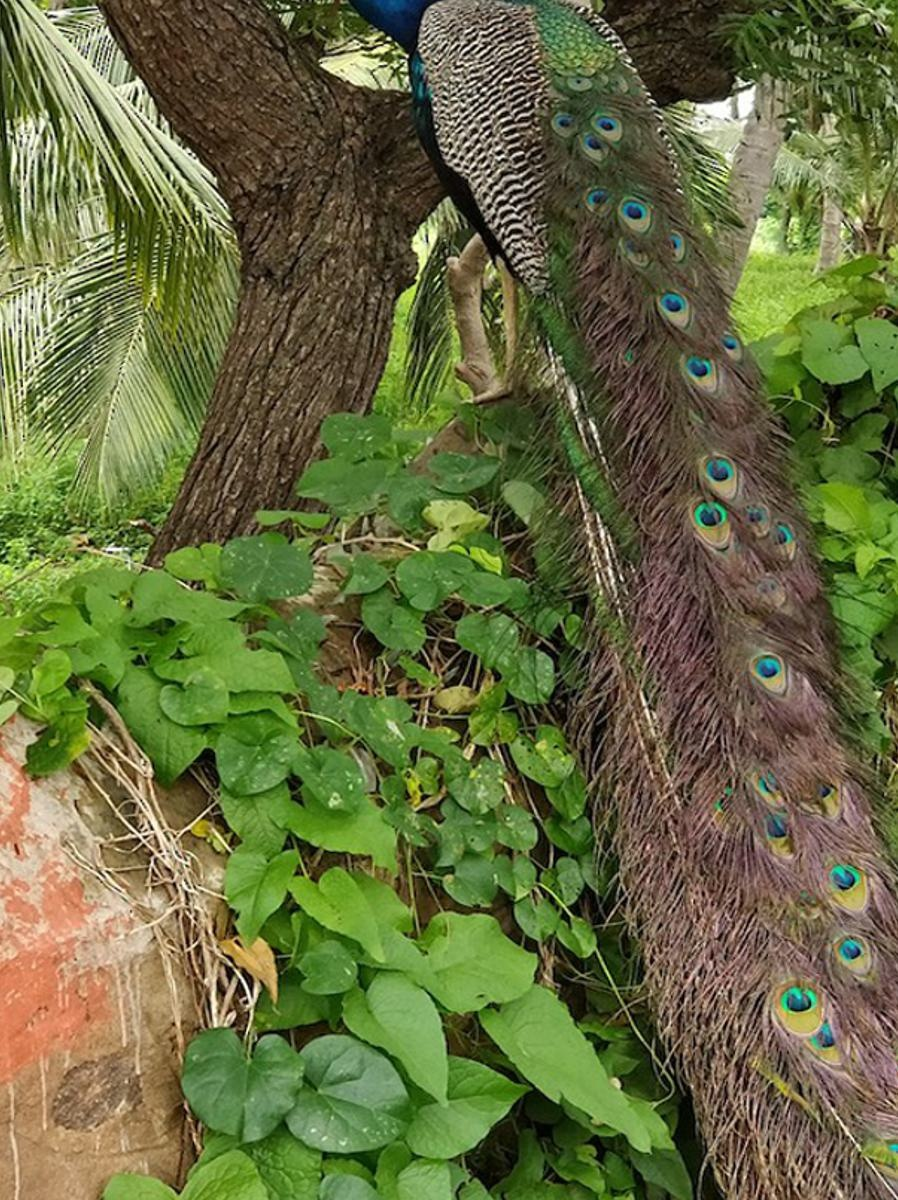peacock: (353, 1, 895, 1191)
